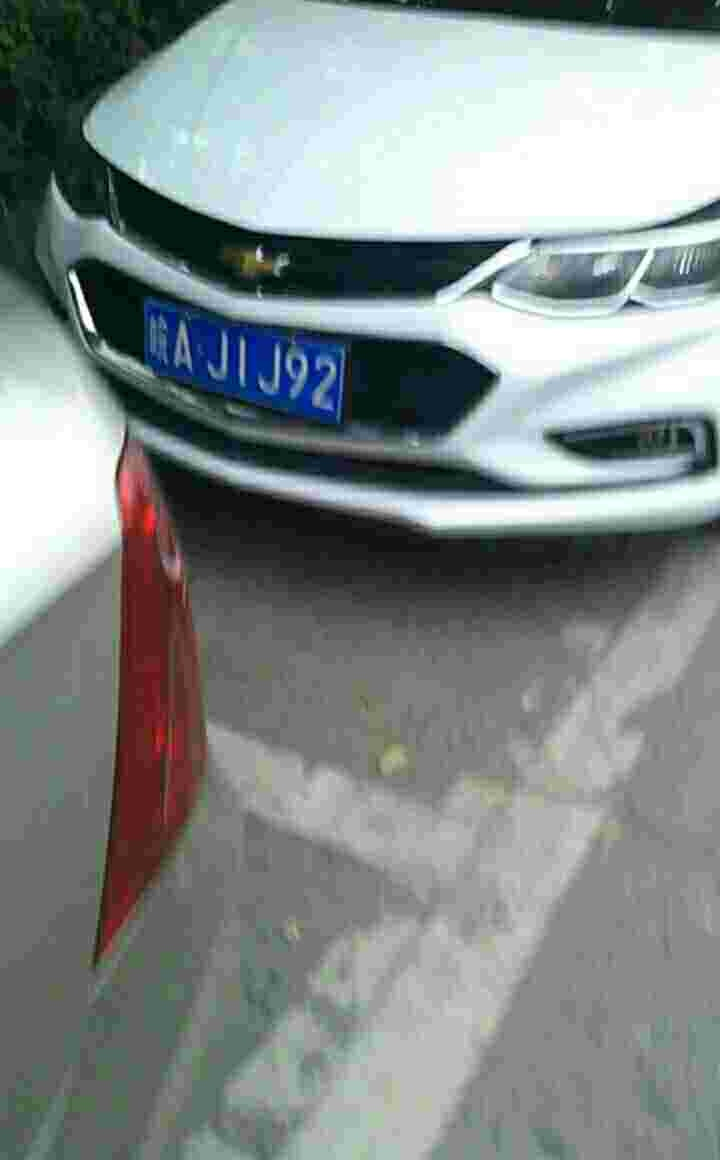license_plate: (145, 296, 348, 439)
